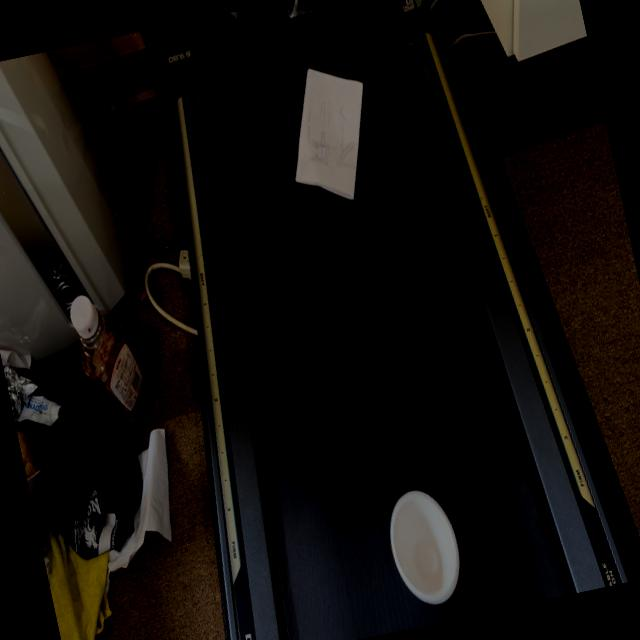Recycle: (272, 52, 389, 215), (378, 479, 472, 614)
